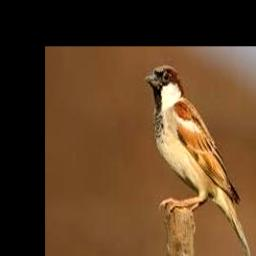Sparrow: (145, 65, 254, 256)
